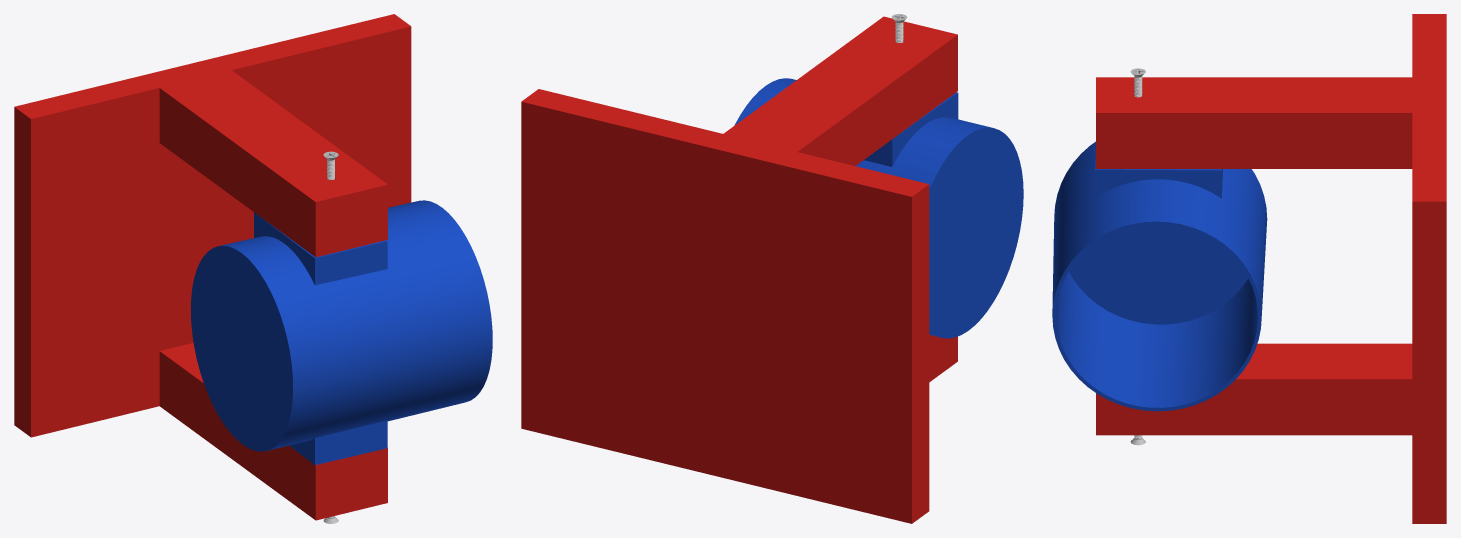
The model's file is fixture-holder-assembly.glb.
3 renders of one model, left to right at view 1: azimuth 30°, elevation 25°; view 2: azimuth 150°, elevation 25°; view 3: azimuth 270°, elevation 25°, orthographic. The views are drawn at different scales.
Size of the model in its own units: 0.2291 by 0.2106 by 0.2032.
